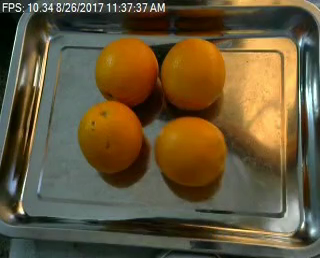Orange: (155, 116, 226, 187), (162, 38, 226, 111), (95, 38, 159, 108), (81, 102, 143, 174)
